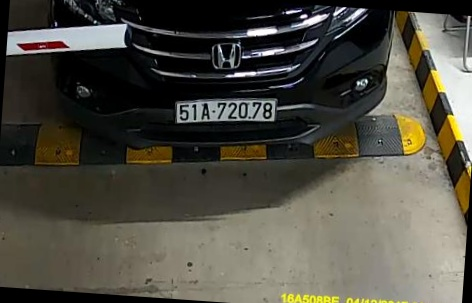plate: (172, 95, 277, 130)
